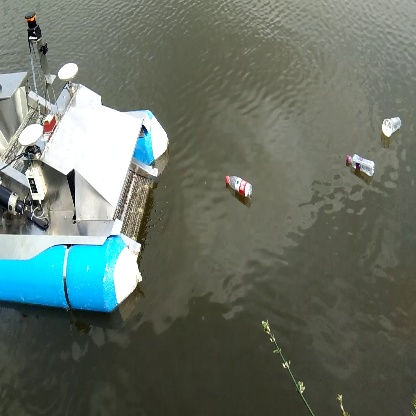bottle: (344, 150, 378, 178), (222, 173, 256, 200), (380, 115, 404, 139)
